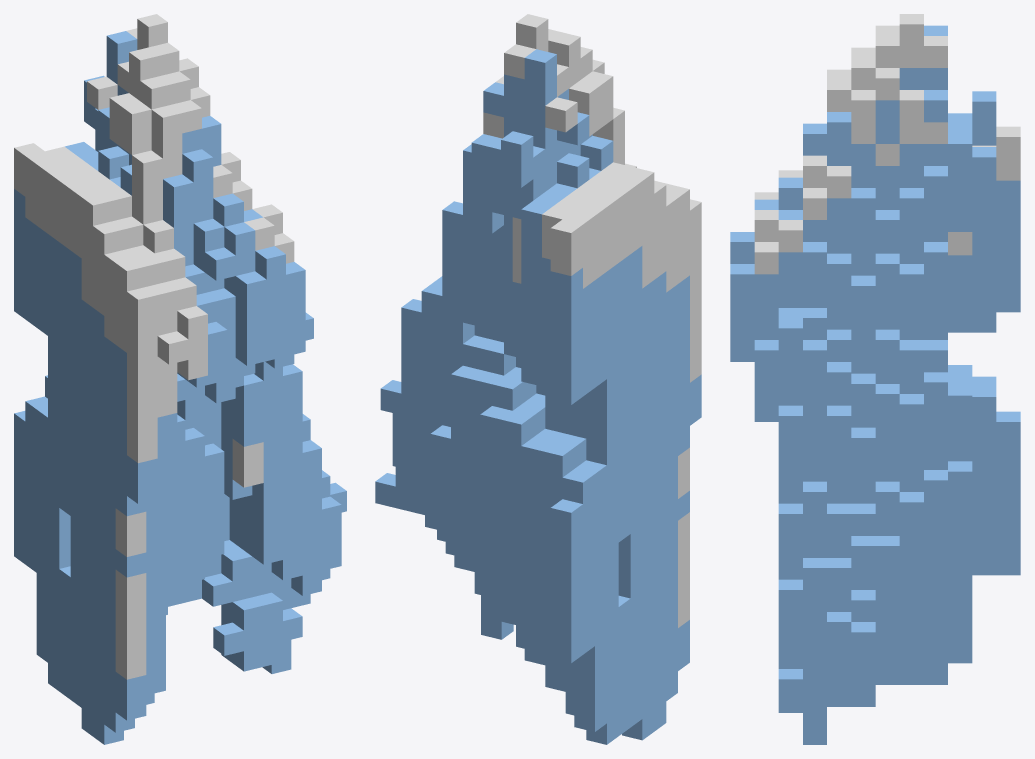
The model's file is snow11.obj.
The picture shows the model from 3 angles, left to right: view 1: azimuth 30°, elevation 25°; view 2: azimuth 150°, elevation 25°; view 3: azimuth 270°, elevation 25°; orthographic projection. The views are drawn at different scales.
Size of the model in its own units: 1.3 by 3.3 by 1.2.
Materials: 1 (1 with a texture image).
